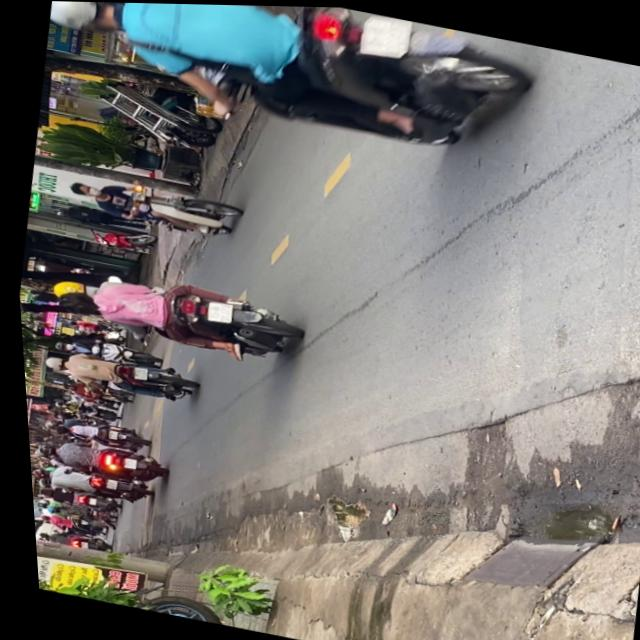helmet: (48, 1, 129, 37), (45, 275, 88, 302), (36, 353, 61, 369)
licenseplate: (38, 1, 537, 169), (38, 253, 304, 370), (59, 166, 241, 242), (34, 341, 194, 405)
motorcyclist: (49, 286, 97, 314), (63, 177, 101, 200)
nohelmet: (358, 9, 413, 58), (200, 297, 228, 322), (126, 364, 142, 378)
